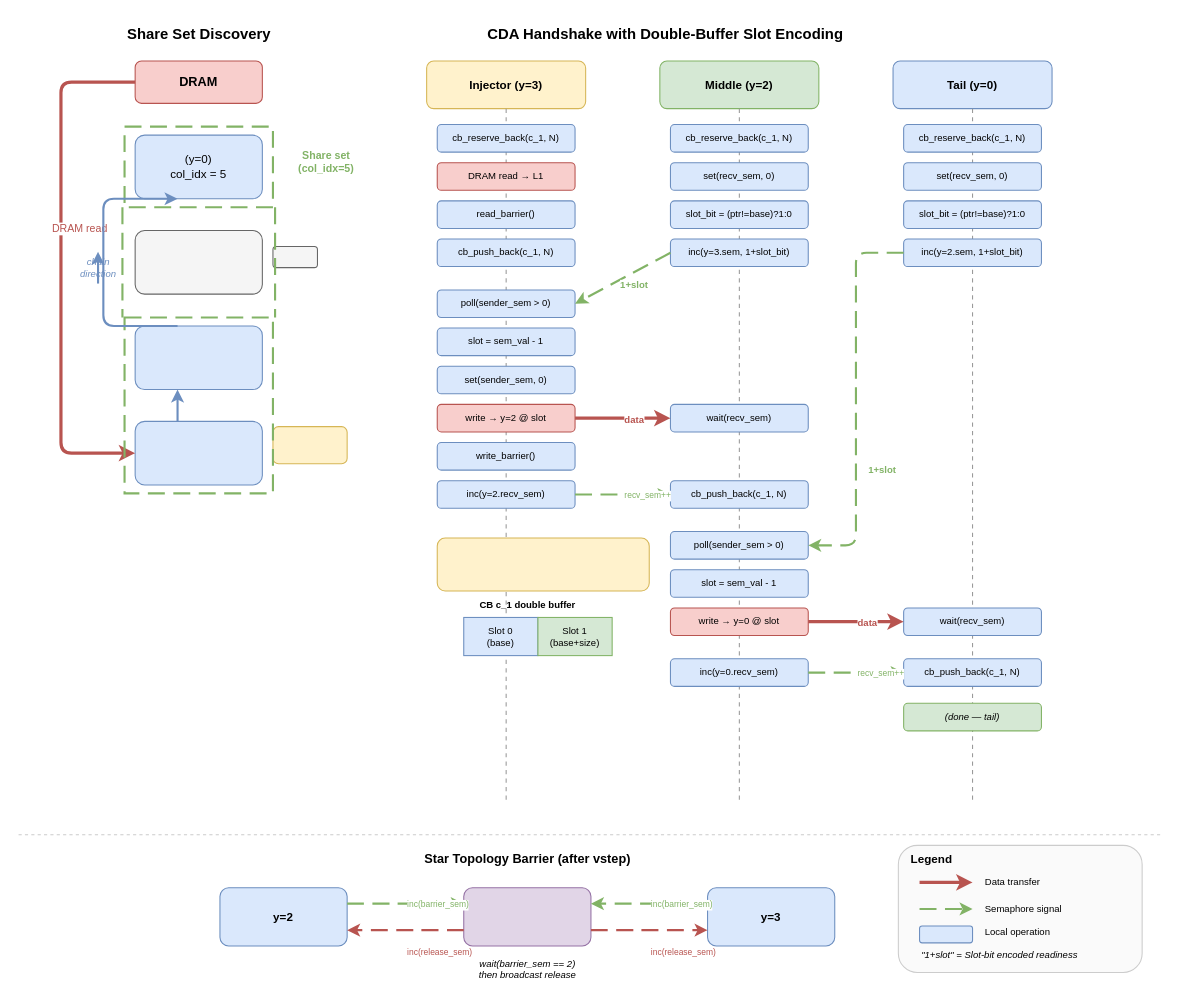
This 1183x1001 diagram has some shape labels left out. Here are the shapes that lost their labels. From the top down, the centre of each, then its label:
(x=198, y=261): (y=1) col_idx = 3
(x=294, y=256): SOLO
(x=198, y=357): (y=2) col_idx = 5
(x=198, y=452): (y=3) col_idx = 5
(x=309, y=445): Injector (max y)
(x=542, y=564): Slot Encoding: sem value 1 → slot 0 (base) sem value 2 → slot 1 (base+size)
(x=527, y=916): y=0 Leader
